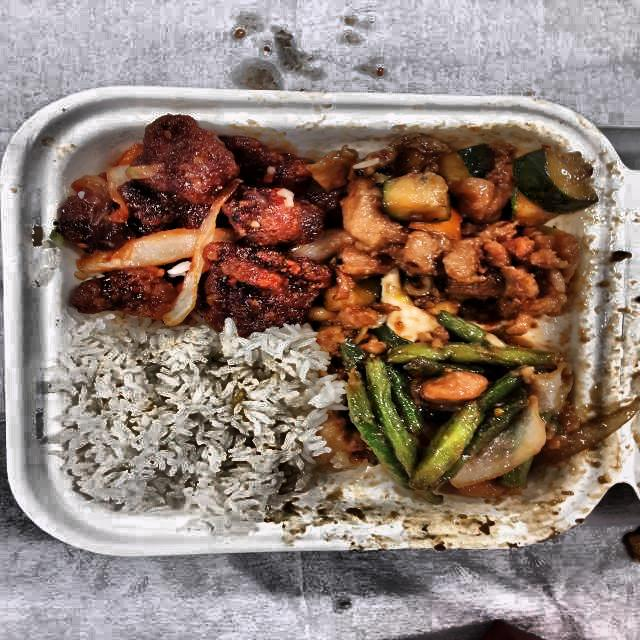Food: (54, 115, 338, 333), (323, 123, 595, 328), (60, 330, 321, 520), (339, 320, 595, 501)
